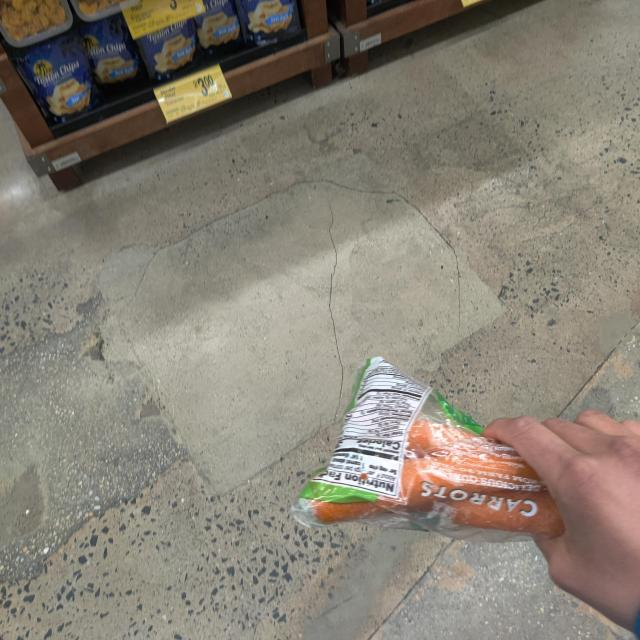Carrots: (304, 358, 640, 566)
